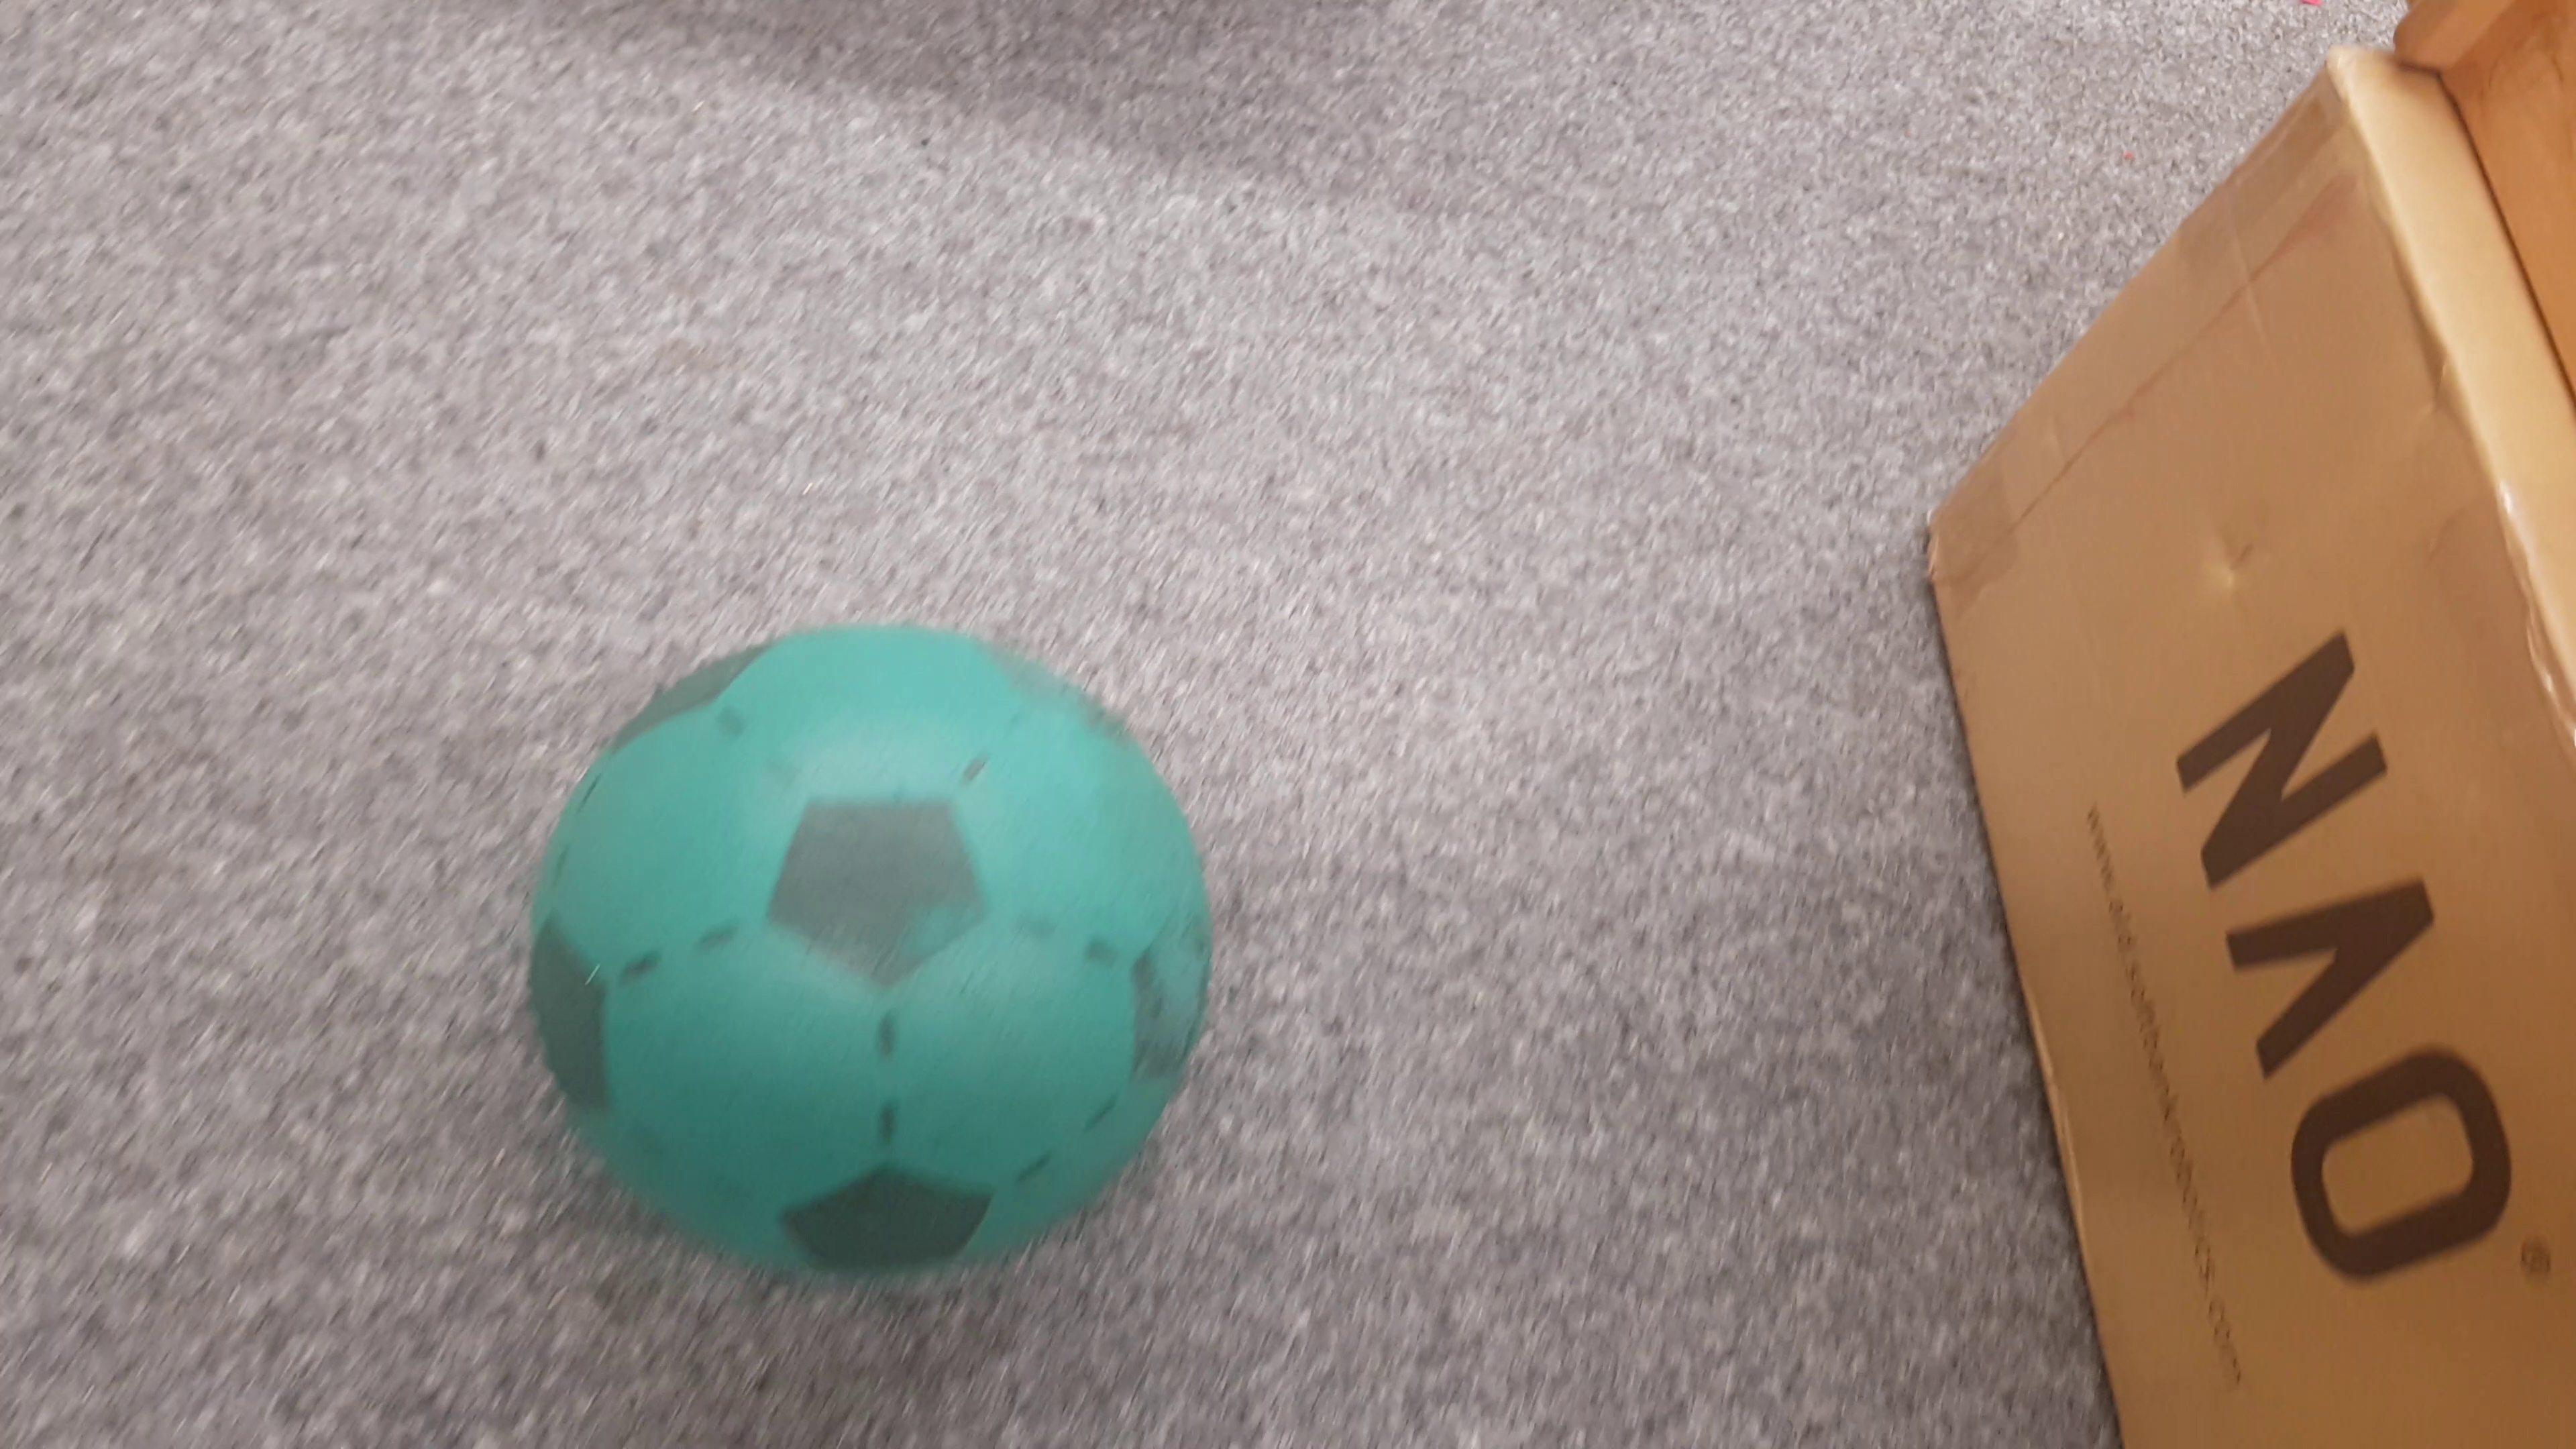kick: (536, 625, 1214, 1272)
